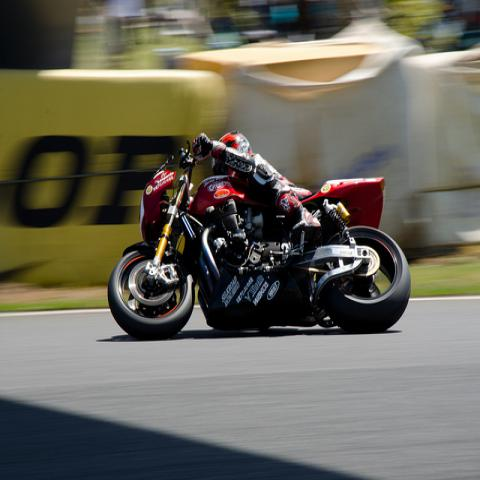motorcycle: (108, 137, 412, 341)
